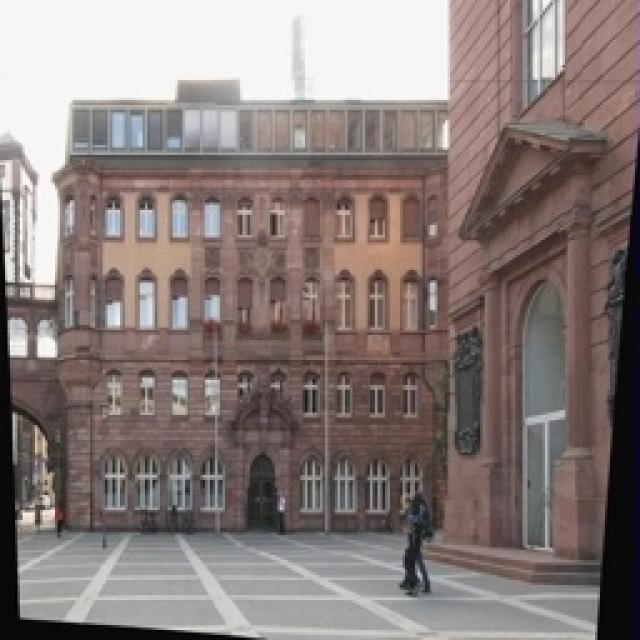building: (50, 65, 450, 567)
